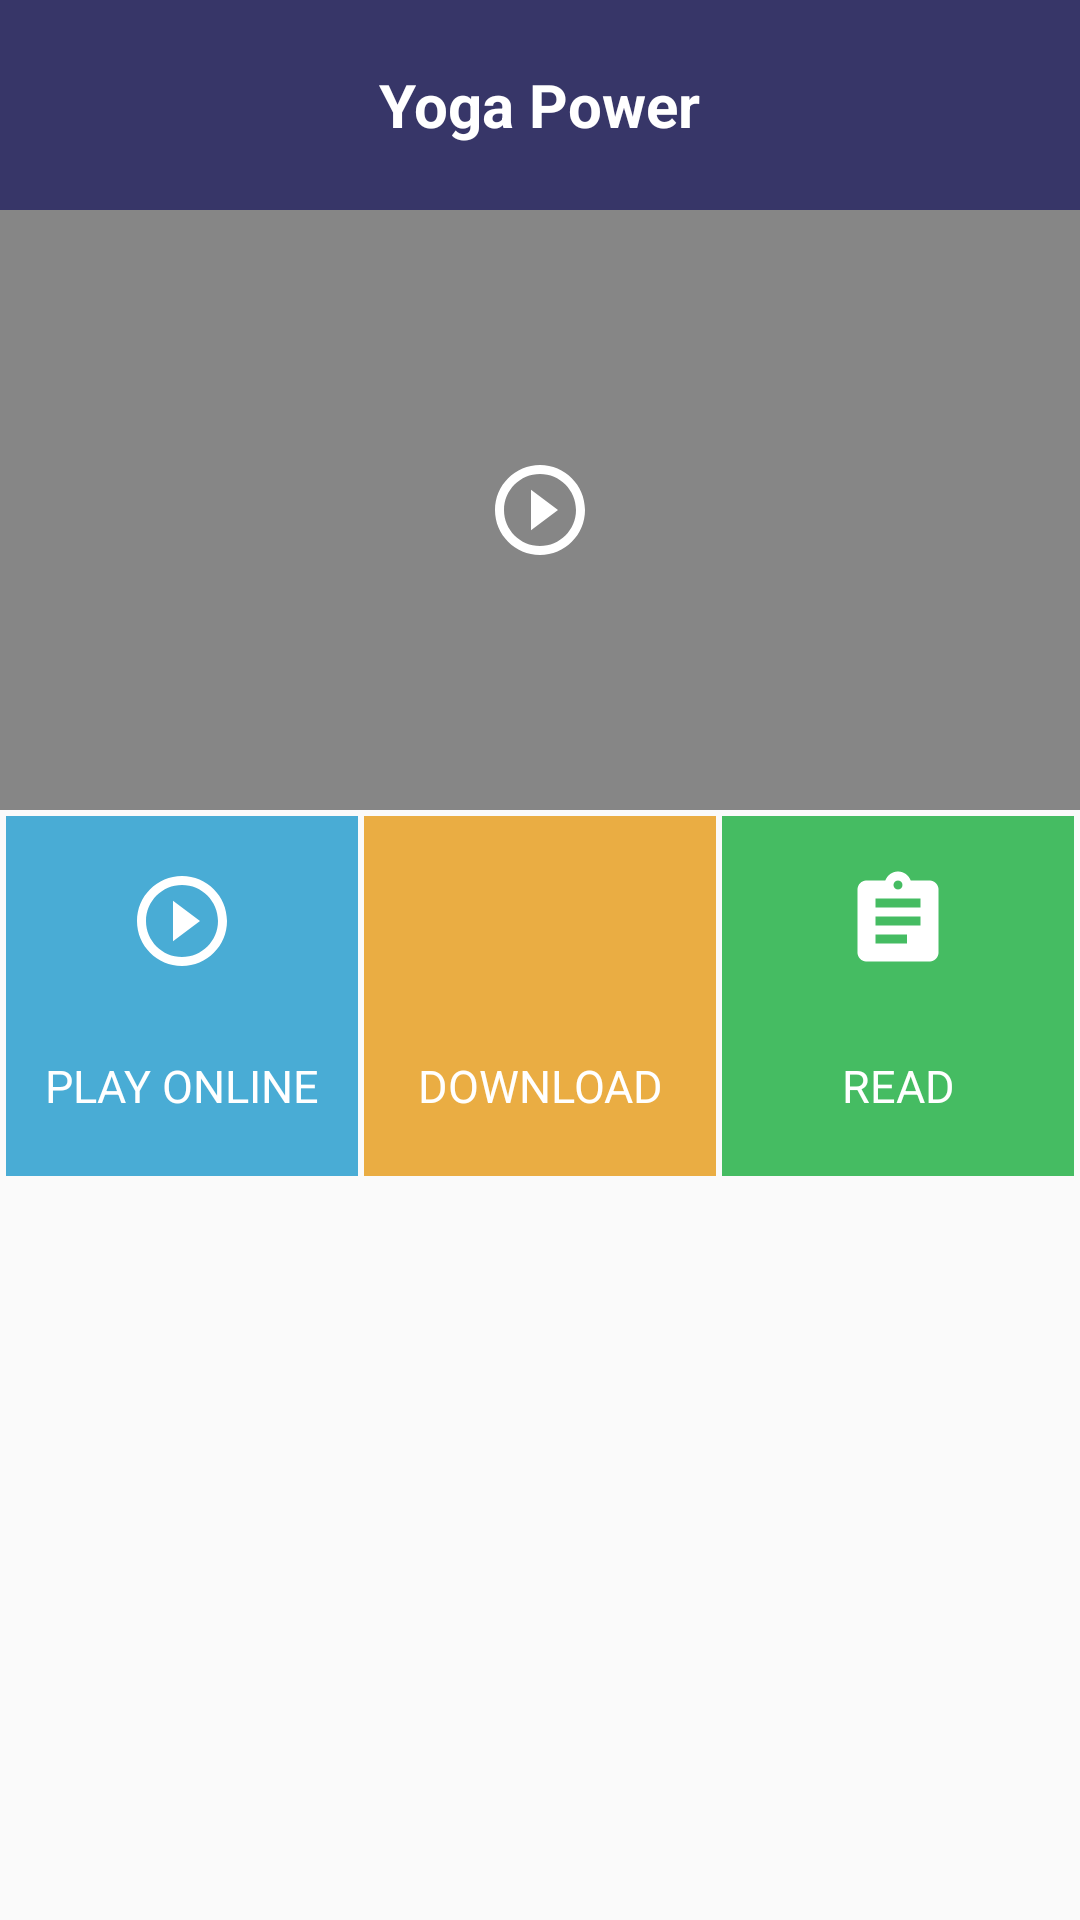

Named icons in this screenshot (1080px×1920px) and their bounding boxes, [x1,y1,x2,y2]:
assignment: [857,871,939,962]
